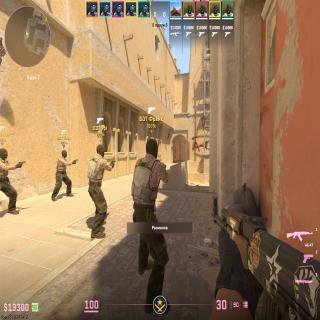T-Body: (133, 138, 169, 312), (88, 144, 109, 239), (0, 148, 11, 213), (55, 150, 68, 197)
T-Head: (146, 138, 158, 158), (96, 144, 105, 158), (0, 148, 8, 158), (62, 150, 68, 157)
